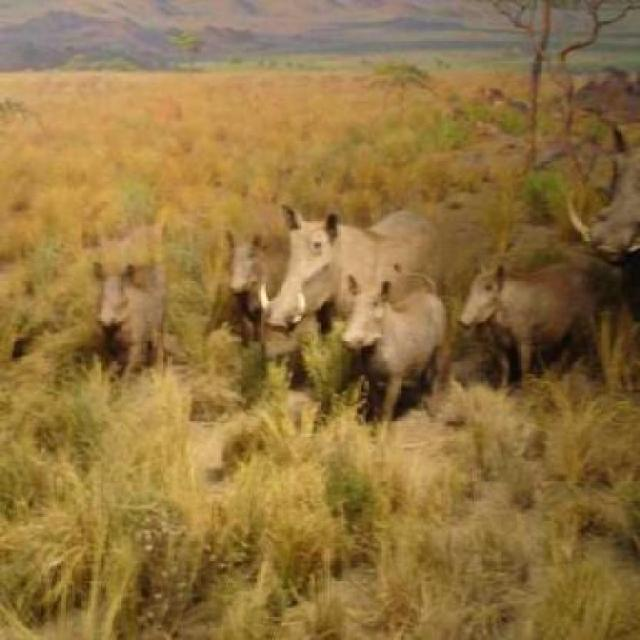pig: (240, 197, 518, 315), (457, 243, 605, 384), (328, 252, 436, 397), (83, 222, 179, 376), (584, 121, 640, 303), (208, 218, 270, 308)
